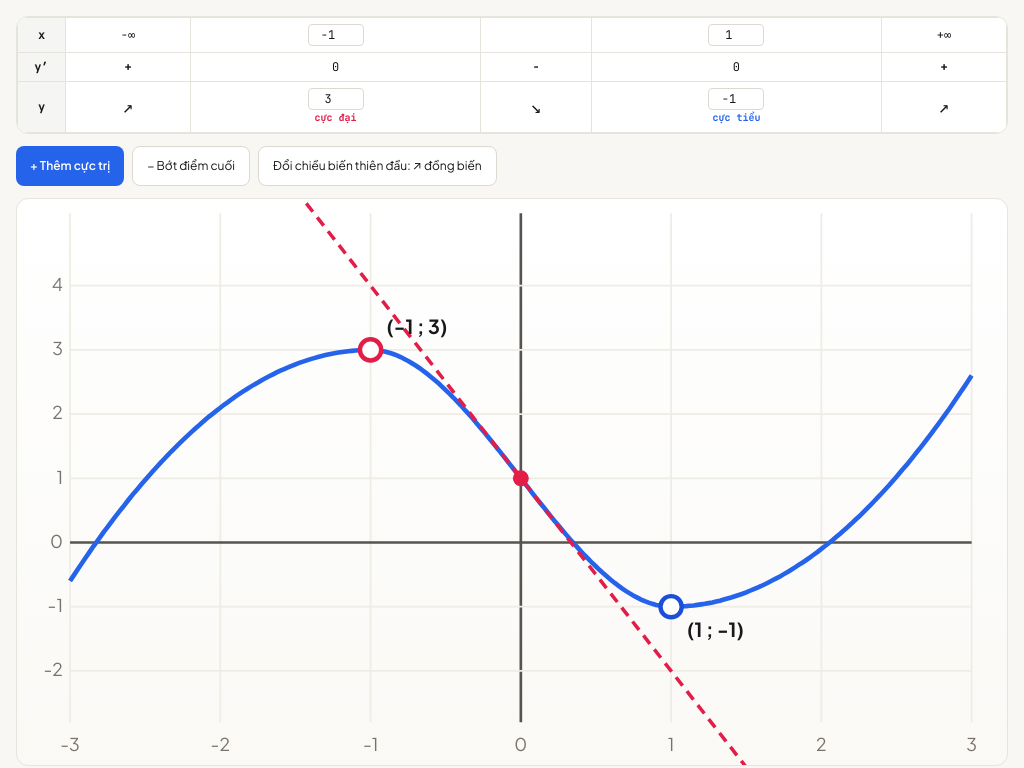
MoreStemEngines: hiển thị và tương tác › bảng biến thiên: dựng đồ thị, cực trị đúng loại; giá trị sai thì báo lỗi và ẩn đồ thị
Expected: the element with test id "variation-curve" is shown, [70, 350, 972, 607]
Replace the text in the number field with test id "vt-x-1" with "-3": point(736, 35) [708, 24, 764, 46]
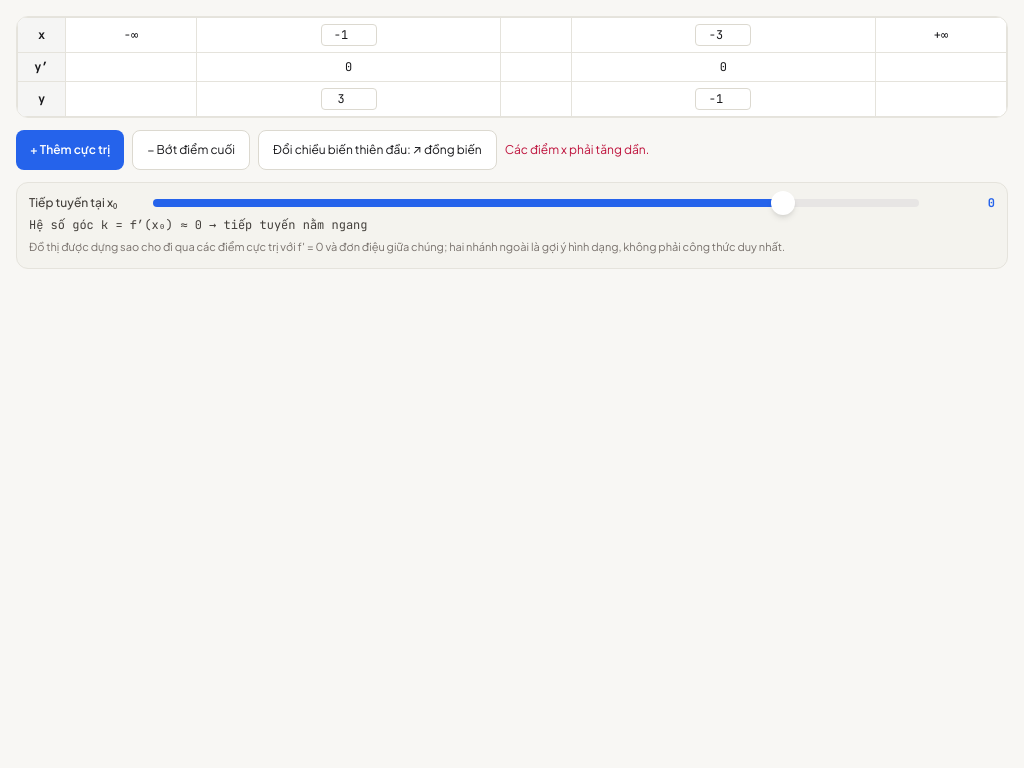
Expected: the text with test id "vt-error" shows "tăng dần", [505, 142, 649, 157]
Expected: the icon with test id "variation-graph" is gone
